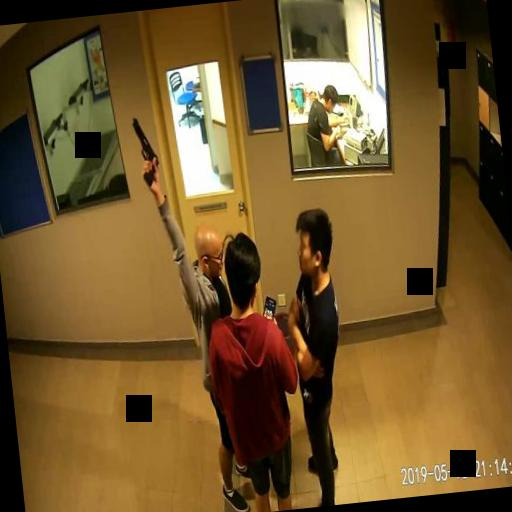Handgun: (130, 113, 158, 185)
